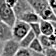cell: (12, 13, 30, 26), (16, 34, 32, 47), (22, 1, 36, 14)
